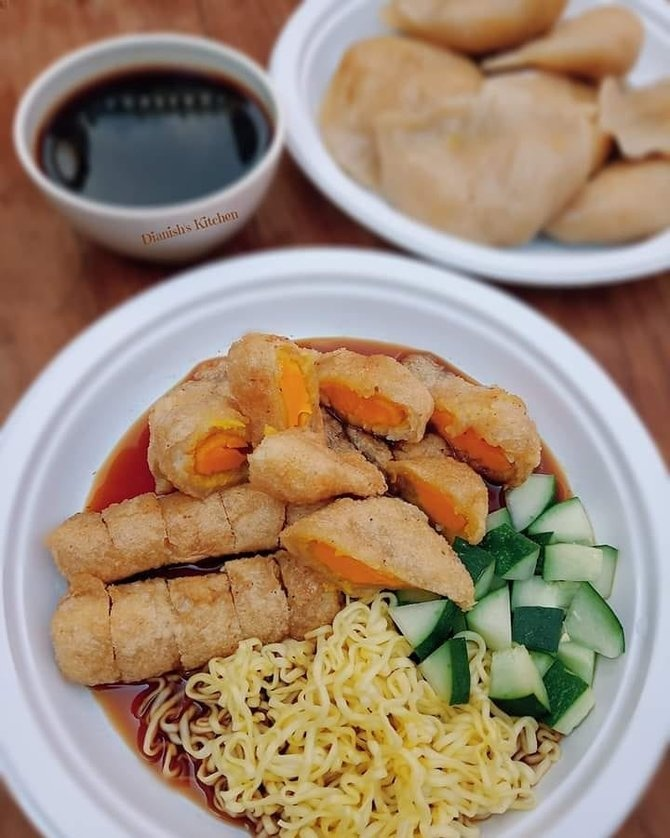pempek: (45, 343, 545, 667)
